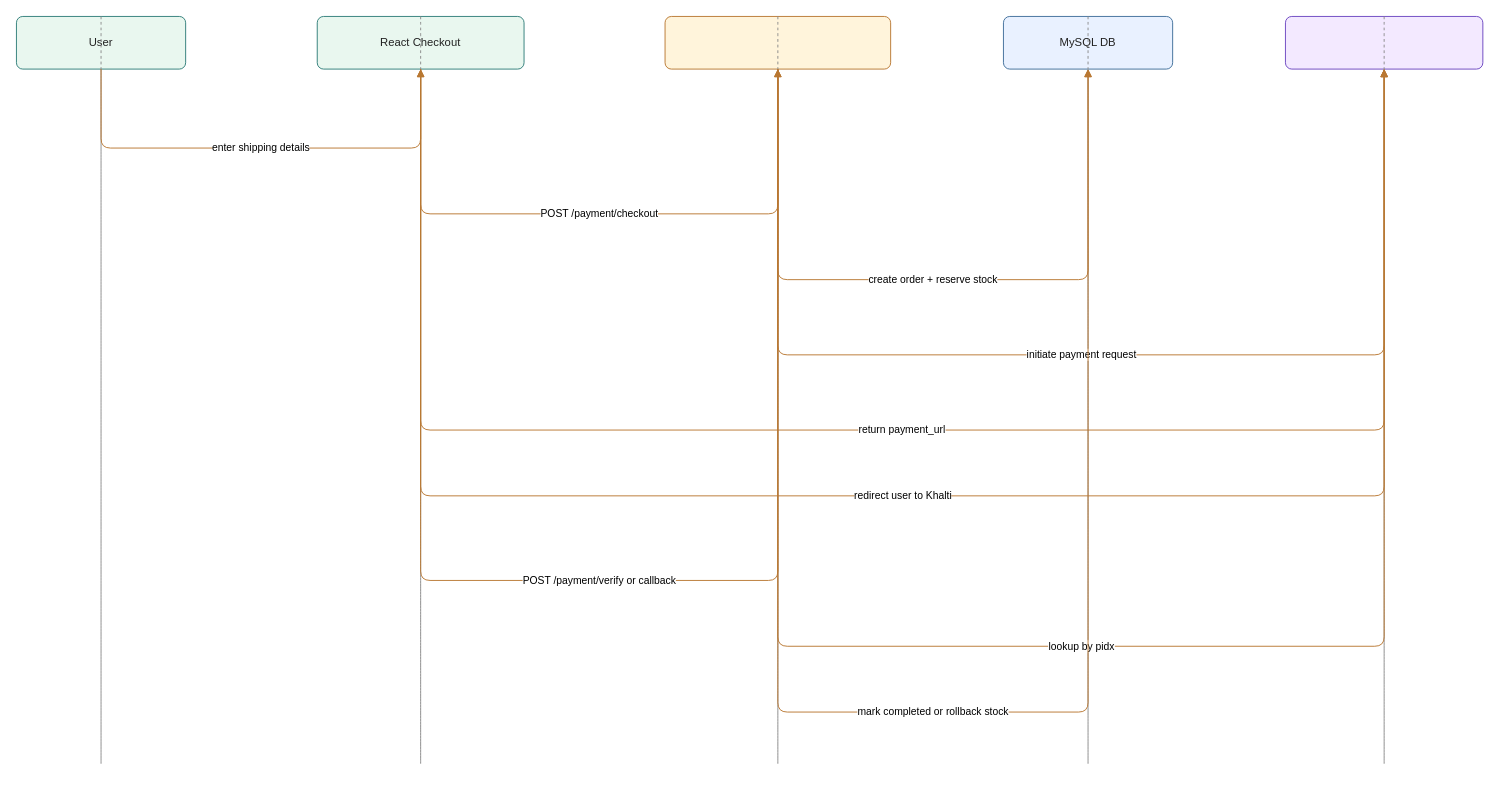
This 1499x786 diagram has some shape labels left out. Each missing label, with the centre of its shape:
"Express Payment API" goes at (777,42).
"Khalti Gateway" goes at (1384,42).
